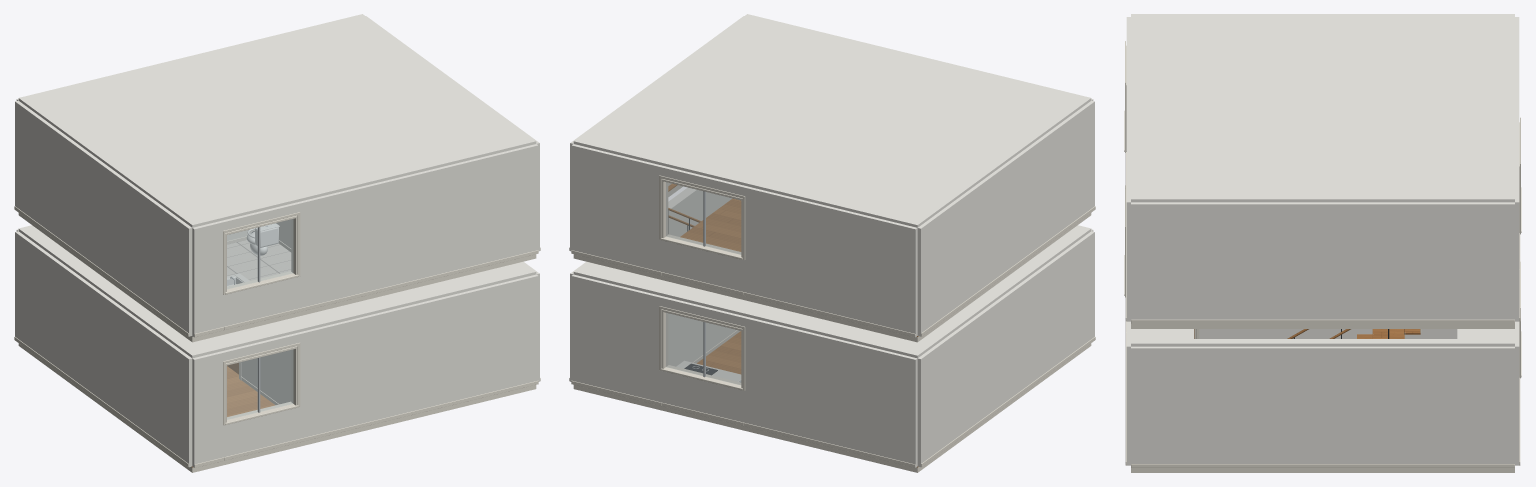
3 renders of one model, left to right at view 1: azimuth 30°, elevation 25°; view 2: azimuth 150°, elevation 25°; view 3: azimuth 270°, elevation 25°, orthographic. The views are drawn at different scales.
Parts seen in each view (by area): view 1: ceiling:upper, wall:ground-west:0:0, wall:upper-west:0:0, wall:upper-north:2:1, wall:ground-north:2:1, ceiling:ground, wall:upper-north:2:0, wall:ground-north:2:0, wall:upper-north:2:2, wall:ground-north:2:2, wall:upper-north:1:0, wall:ground-north:1:0 (+21 smaller); view 2: ceiling:upper, wall:ground-west:0:0, wall:upper-west:0:0, wall:ground-south:0:1, wall:upper-south:0:1, ceiling:ground, wall:ground-south:0:0, wall:upper-south:0:0, wall:ground-south:2:1, wall:upper-south:2:1, wall:upper-south:2:0, wall:ground-south:2:0 (+24 smaller); view 3: ceiling:upper, wall:ground-east:0:0, wall:upper-east:0:0, ceiling:ground, floor:upper:substrate, wall:ground-stair-divider:0:0, floor:ground:substrate, skirting:upper-east:0:-1, skirting:ground-east:0:-1, wall:upper-north:2:2, wall:upper-south:0:2.
Boxes of the visible parts, x1,y1,x2,y2 form: ceiling:upper: (18, 14, 536, 227); wall:ground-west:0:0: (15, 231, 192, 467); wall:upper-west:0:0: (15, 100, 192, 336); wall:upper-north:2:1: (300, 157, 538, 275); wall:ground-north:2:1: (300, 287, 538, 405); ceiling:ground: (18, 225, 536, 358); wall:upper-north:2:0: (297, 217, 538, 308); wall:ground-north:2:0: (297, 348, 538, 438); wall:upper-north:2:2: (296, 144, 538, 214); wall:ground-north:2:2: (296, 274, 538, 345); wall:upper-north:1:0: (224, 277, 297, 326); wall:ground-north:1:0: (224, 407, 297, 456); ceiling:upper: (573, 14, 1091, 227); wall:ground-west:0:0: (917, 231, 1094, 467); wall:upper-west:0:0: (917, 100, 1094, 336); wall:ground-south:0:1: (745, 329, 917, 431); wall:upper-south:0:1: (745, 199, 917, 301); ceiling:ground: (573, 188, 1091, 358); wall:ground-south:0:0: (743, 390, 917, 467); wall:upper-south:0:0: (743, 260, 917, 336); wall:ground-south:2:1: (571, 287, 658, 369); wall:upper-south:2:1: (571, 157, 658, 238); wall:upper-south:2:0: (571, 217, 661, 271); wall:ground-south:2:0: (571, 348, 661, 402); ceiling:upper: (1131, 14, 1514, 202); wall:ground-east:0:0: (1131, 346, 1514, 463); wall:upper-east:0:0: (1131, 202, 1514, 319); ceiling:ground: (1131, 329, 1514, 346); floor:upper:substrate: (1131, 323, 1514, 328); wall:ground-stair-divider:0:0: (1199, 329, 1457, 338); floor:ground:substrate: (1131, 468, 1514, 472); skirting:upper-east:0:-1: (1131, 319, 1514, 323); skirting:ground-east:0:-1: (1131, 464, 1514, 467); wall:upper-north:2:2: (1126, 72, 1130, 214); wall:upper-south:0:2: (1515, 17, 1519, 109).
Bounding box in the file's own units: 8.19 × 5.5 × 7.25.
Materials: 13 (4 with a texture image).
